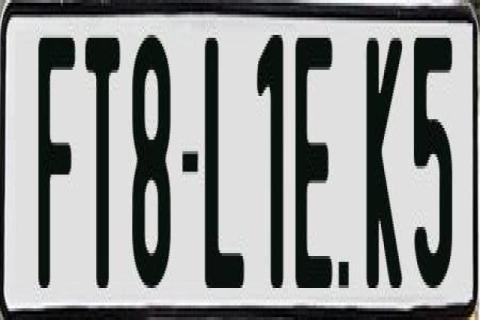0: (411, 32, 454, 300), (133, 26, 173, 294), (254, 27, 286, 280)
E: (293, 35, 331, 294)
F: (35, 38, 78, 306)
K: (365, 32, 406, 288)
L: (205, 38, 245, 297)
T: (82, 29, 122, 285)
